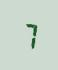seven: (19, 19, 36, 50)
